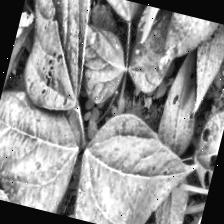ALS: (74, 98, 207, 224), (0, 0, 107, 118), (0, 89, 96, 217), (144, 8, 224, 84), (184, 20, 224, 113)
